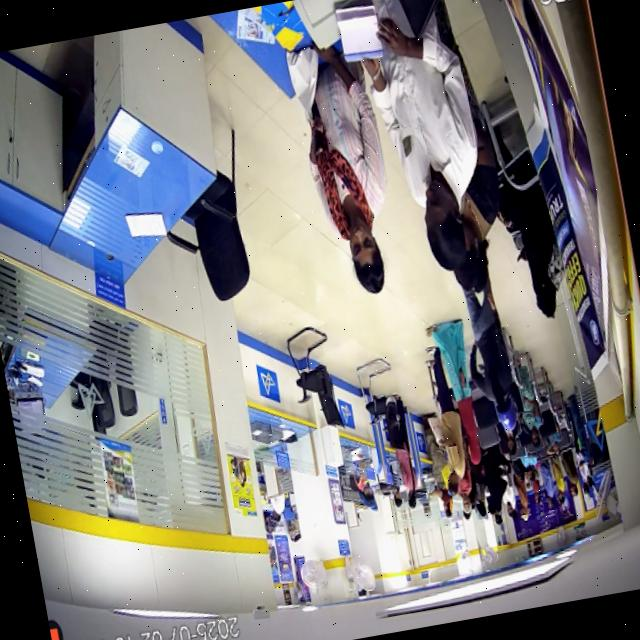helmet: (497, 395, 517, 432)
no_helmet: (425, 167, 467, 272), (349, 207, 385, 293), (467, 434, 481, 465)
